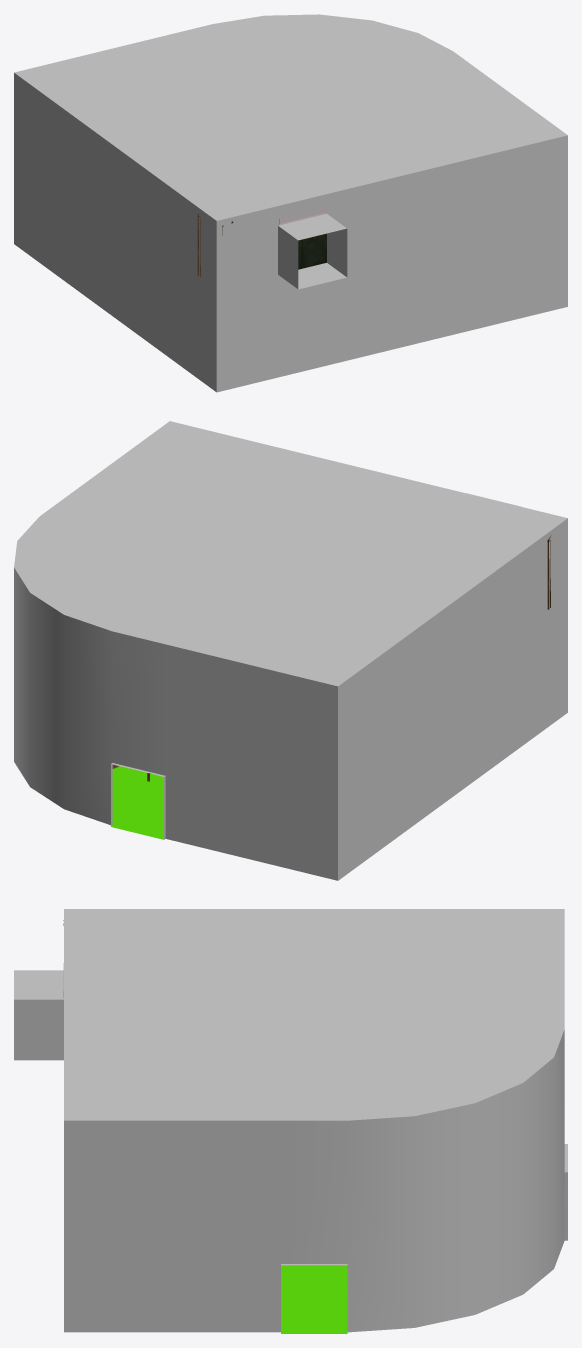
The model's file is roomsB1.fbx.
3 views of the same model, one above another, from view 1: azimuth 30°, elevation 25°; view 2: azimuth 150°, elevation 25°; view 3: azimuth 270°, elevation 25° (orthographic). The views are drawn at different scales.
Visible parts, largest first — view 1: Plane.016, Plane.017, Двери.001; view 2: Plane.016, Plane.017, Plane; view 3: Plane.016, Plane.017, Plane.
Boxes of the visible parts, bbox=[...] form: Plane.016: bbox=[14, 73, 567, 392]; Plane.017: bbox=[14, 14, 567, 220]; Двери.001: bbox=[302, 233, 326, 268]; Plane.016: bbox=[14, 493, 567, 880]; Plane.017: bbox=[14, 421, 567, 686]; Plane: bbox=[111, 766, 163, 839]; Plane.016: bbox=[14, 970, 567, 1332]; Plane.017: bbox=[64, 909, 564, 1120]; Plane: bbox=[281, 1265, 347, 1333].
Bounding box in the file's own units: 1516 × 702 × 1660.
